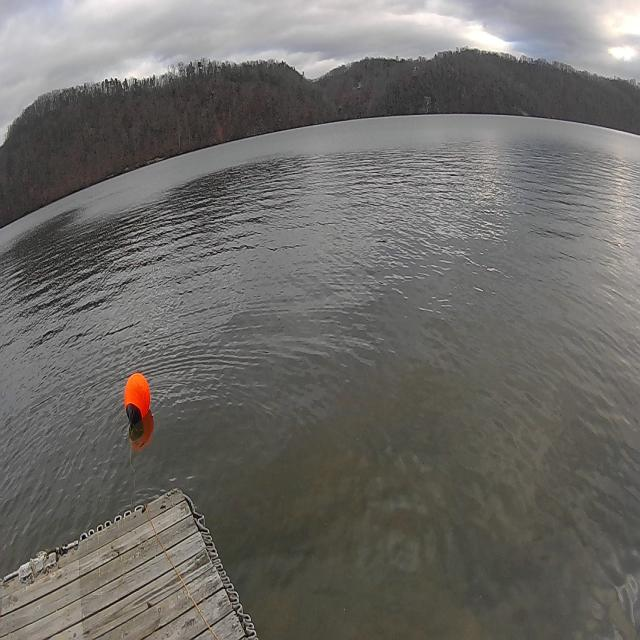Buoy: (122, 371, 152, 425)
